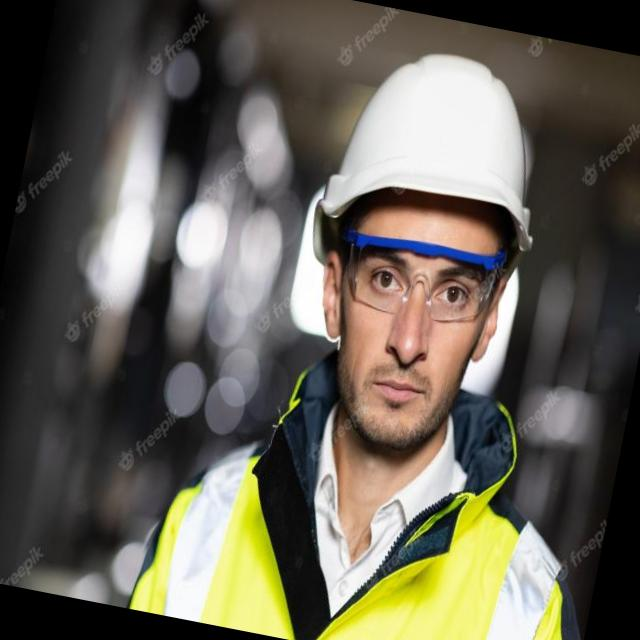Helmet: (308, 18, 574, 280)
